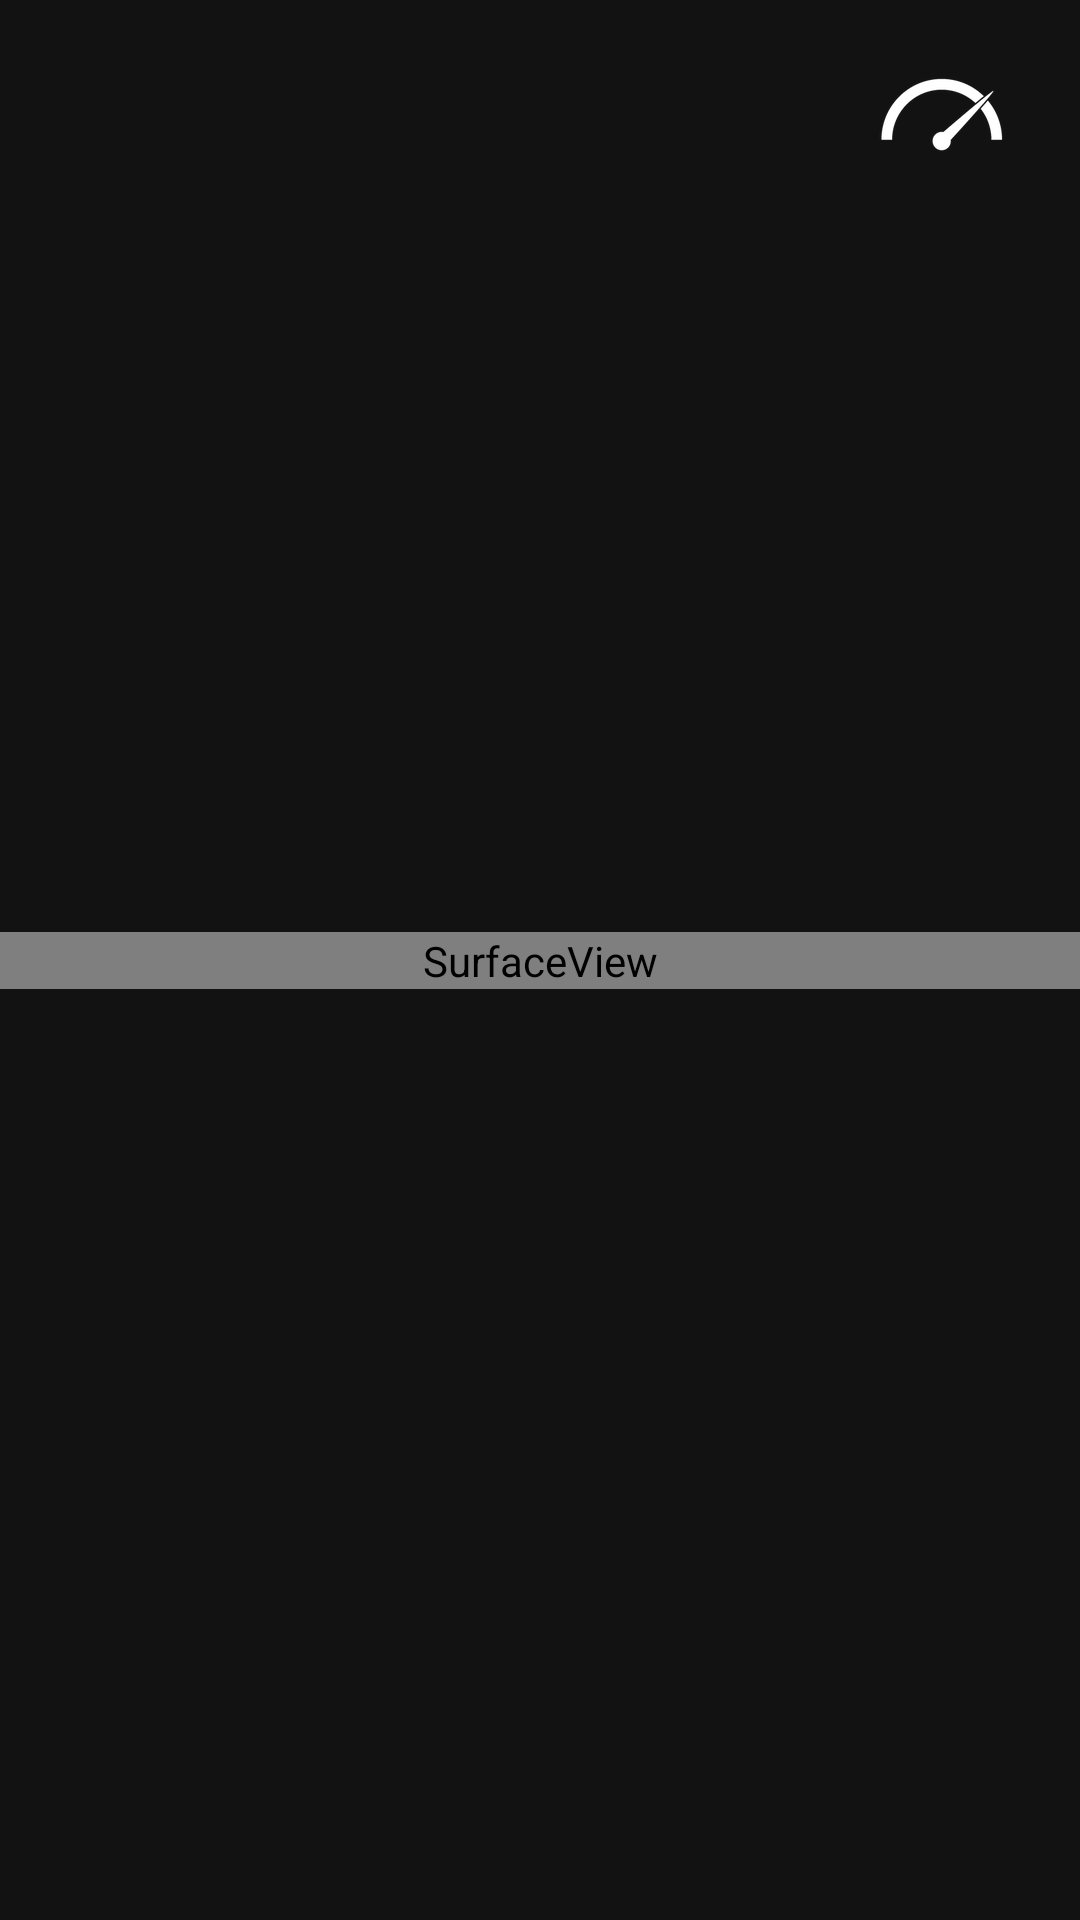

Where icons sit on this 1080w x 1920h app screen, as (x1=x1, y1=y1, x2=x2, y2=y2):
playback speed: (x1=881, y1=78, x2=1002, y2=151)
